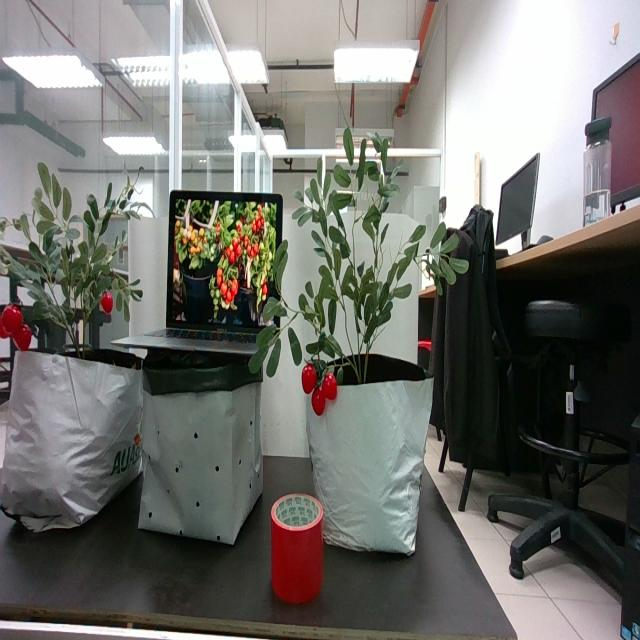Soilbag: (0, 351, 144, 536), (304, 354, 434, 556), (138, 348, 262, 547)
Tomato: (302, 364, 343, 418), (0, 305, 35, 352)
plant: (286, 128, 470, 417), (0, 163, 156, 352), (256, 240, 298, 384)
